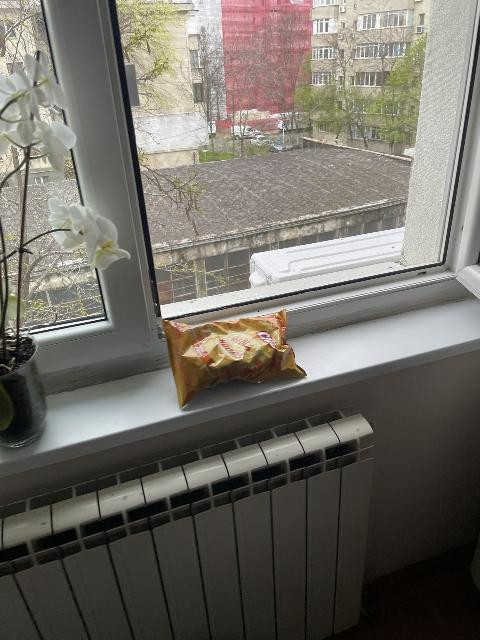Chio Hula Hoops Cheese 70g: (162, 309, 307, 409)
